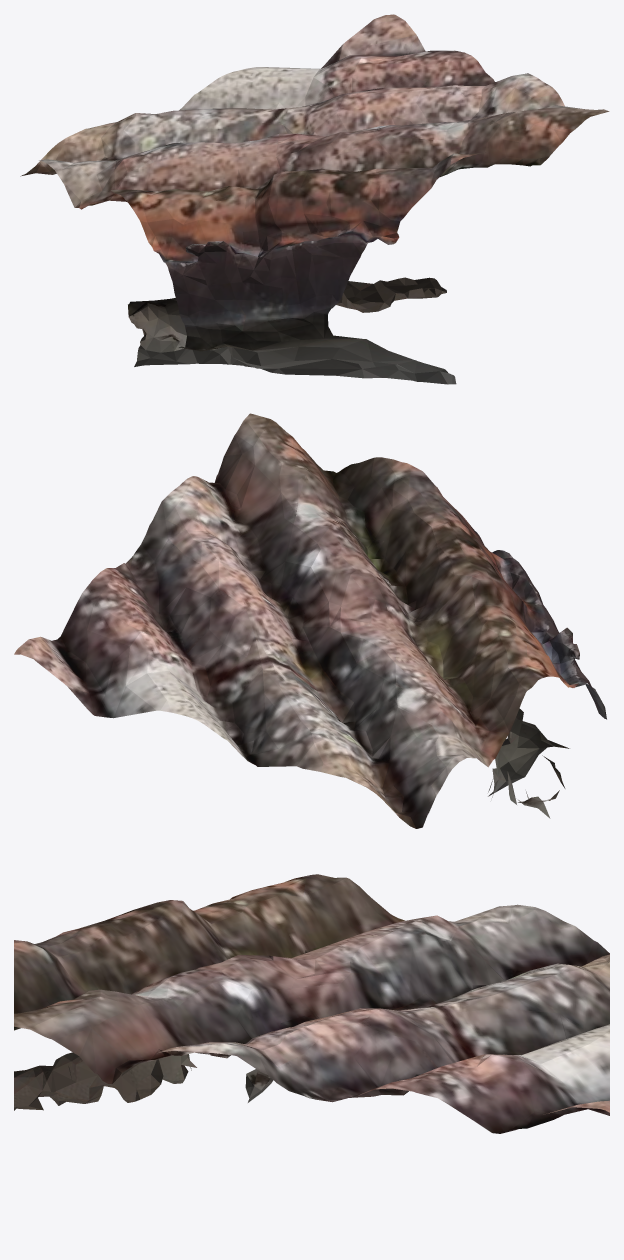
3 views of the same model, one above another, from view 1: azimuth 30°, elevation 25°; view 2: azimuth 150°, elevation 25°; view 3: azimuth 270°, elevation 25° (orthographic). The views are drawn at different scales.
Size of the model in its own units: 0.8373 by 0.4985 by 0.8373.
4 materials, 4 textured.
